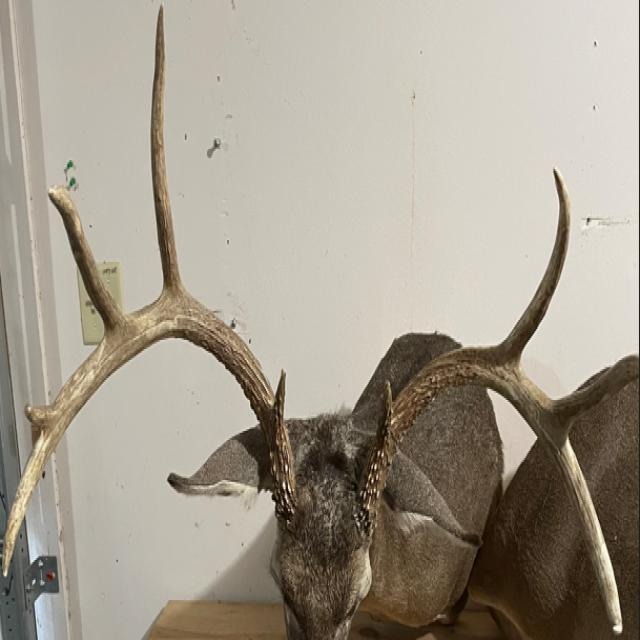L-F: (356, 345, 624, 636)
L-G1: (380, 376, 394, 419)
L-G2: (498, 166, 571, 364)
L-G3: (551, 353, 639, 438)
R-F: (1, 290, 297, 581)
R-G1: (275, 366, 287, 415)
R-G2: (150, 3, 185, 293)
R-G3: (47, 184, 123, 335)
R-G4: (23, 402, 50, 429)
